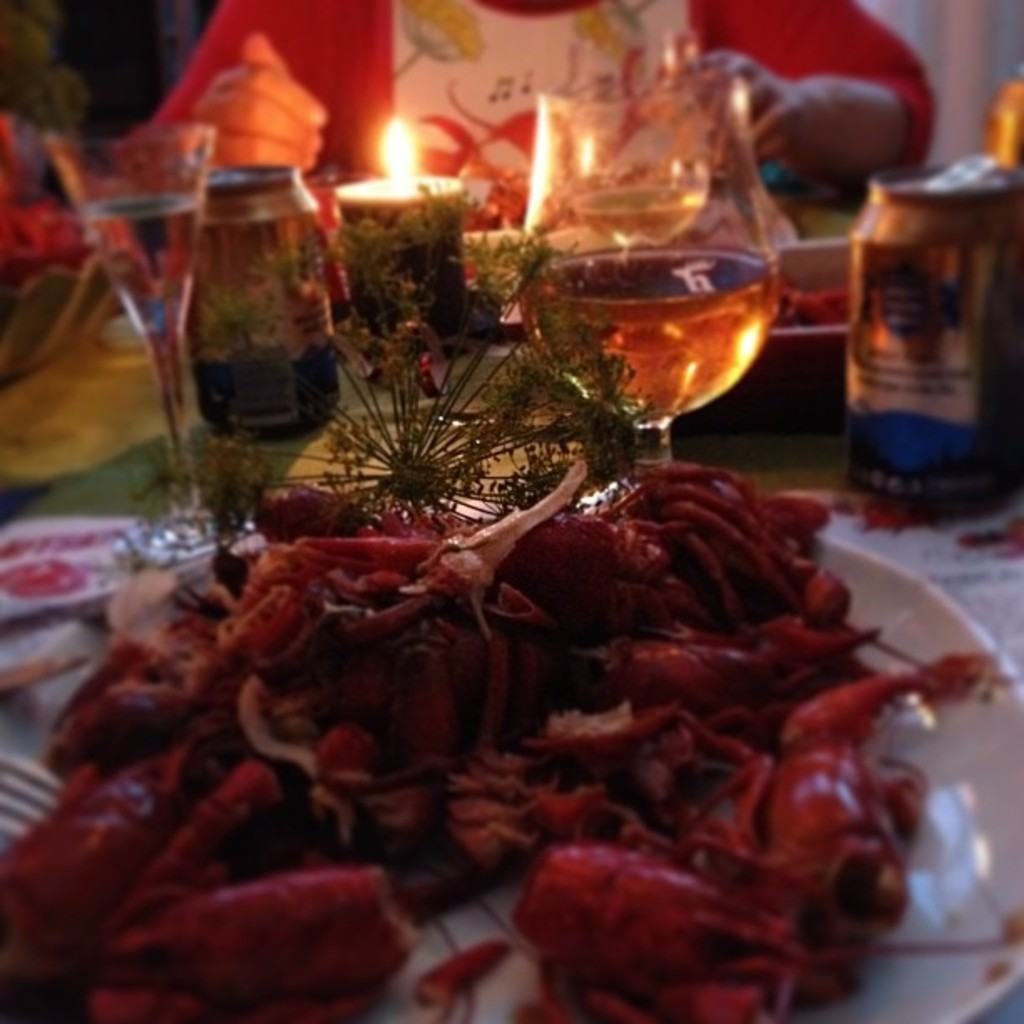Beer: (838, 163, 1022, 505), (522, 229, 766, 426), (174, 168, 339, 443)
